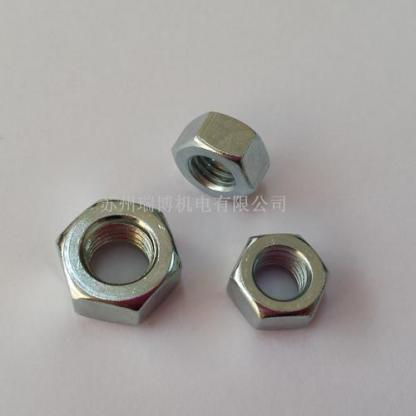FOD: (54, 196, 182, 328), (224, 230, 331, 333), (170, 110, 274, 202)
